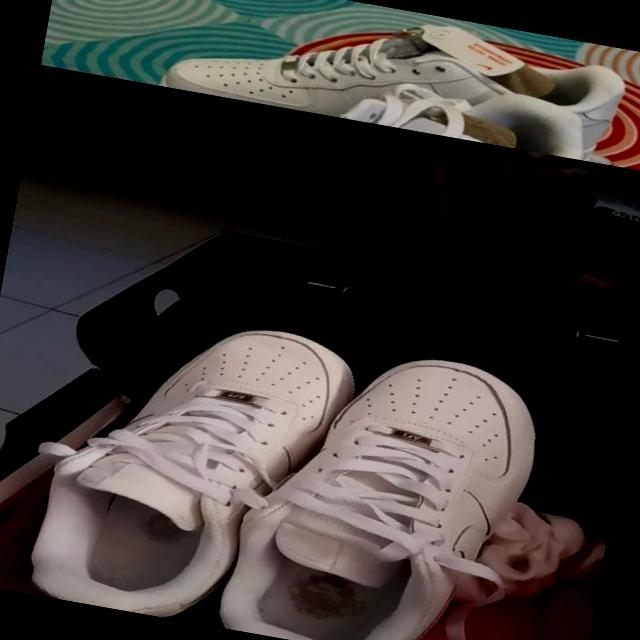nike_fake_airforce: (13, 293, 361, 640), (208, 327, 553, 640)
